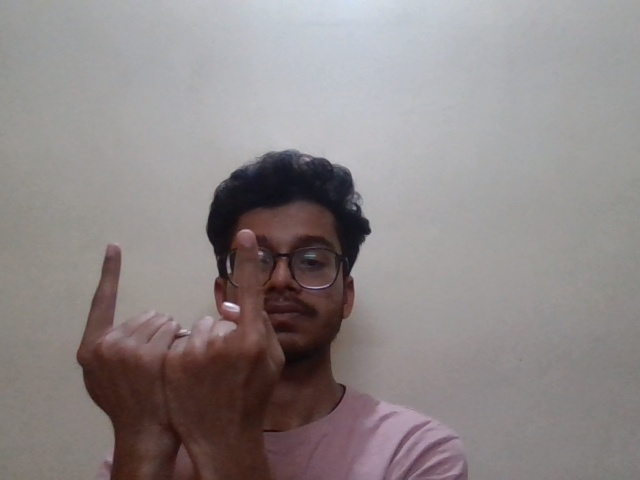when: (72, 220, 304, 421)
